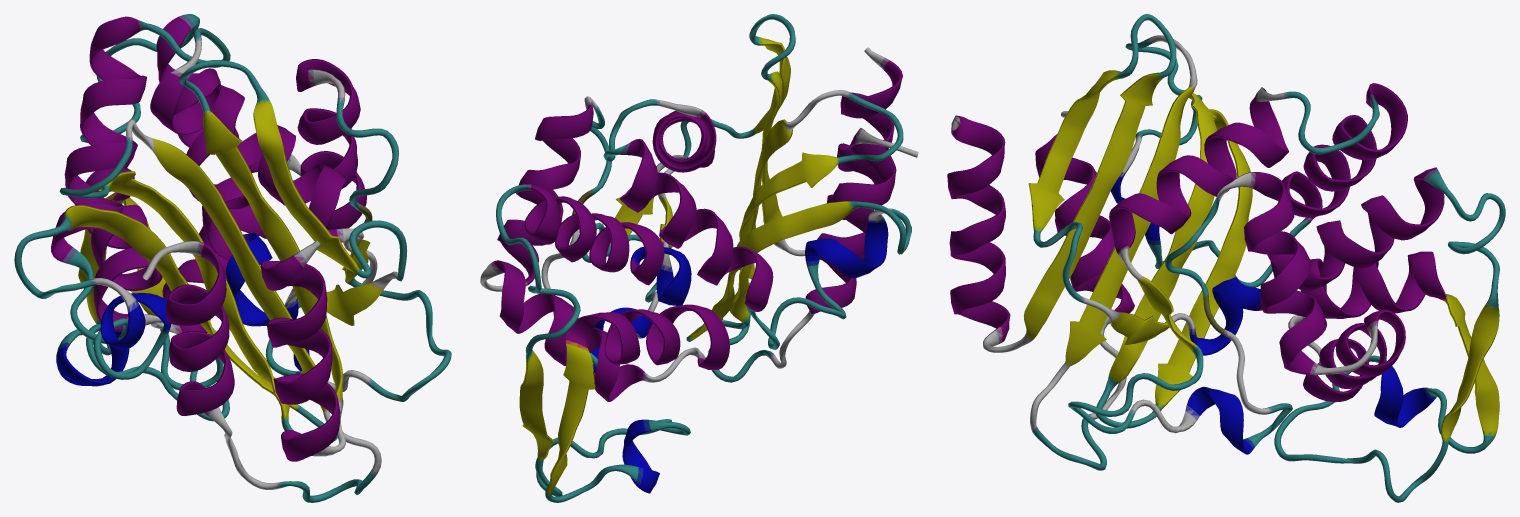
File: animate.0012.obj
3 views of the same model, side by side, from view 1: azimuth 30°, elevation 25°; view 2: azimuth 150°, elevation 25°; view 3: azimuth 270°, elevation 25° (orthographic). The views are drawn at different scales.
Visible parts, largest first — view 1: vmd_mol0_rep0; view 2: vmd_mol0_rep0; view 3: vmd_mol0_rep0.
Part boxes in pixels (bbox=[...]): vmd_mol0_rep0: bbox=[14, 14, 451, 502]; vmd_mol0_rep0: bbox=[480, 14, 918, 502]; vmd_mol0_rep0: bbox=[947, 14, 1505, 502].
Bounding box in the file's own units: 1.02 × 1.12 × 1.32.
